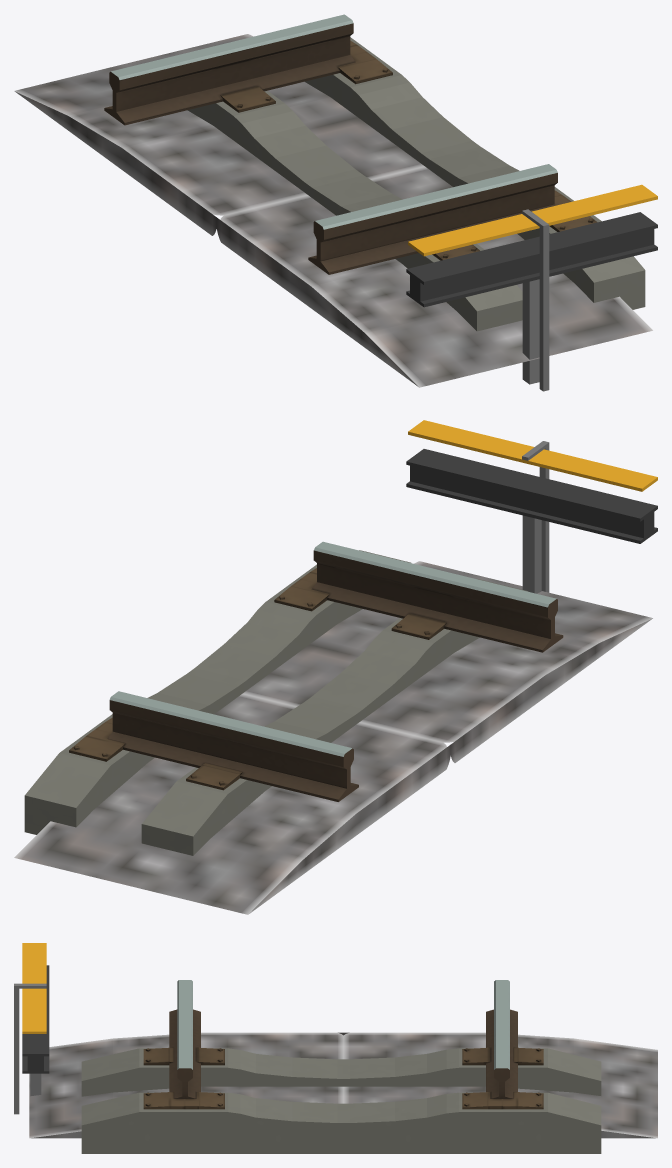
The model's file is spsf_tracks_concrete_ballast_3rdrail_left.obj.
3 views of the same model, one above another, from view 1: azimuth 30°, elevation 25°; view 2: azimuth 150°, elevation 25°; view 3: azimuth 270°, elevation 25° (orthographic). The views are drawn at different scales.
Parts seen in each view (by area): view 1: RAIL_BASE_Cube.001, RAIL_BASE.006_Cube_Cube.004, RAIL_BASE.004, RAIL_RIGHT_Cube.010, RAIL_LEFT_Cube.002, RAIL_BASE.005_Cube.003; view 2: RAIL_BASE_Cube.001, RAIL_BASE.006_Cube_Cube.004, RAIL_BASE.004, RAIL_RIGHT_Cube.010, RAIL_LEFT_Cube.002, RAIL_BASE.005_Cube.003; view 3: RAIL_BASE.006_Cube_Cube.004, RAIL_BASE_Cube.001, RAIL_BASE.005_Cube.003, RAIL_BASE.004, RAIL_RIGHT_Cube.010, RAIL_LEFT_Cube.002.
Boxes of the visible parts, left/top/right/bottom form: RAIL_BASE_Cube.001: left=14, top=34, right=652, bottom=387; RAIL_BASE.006_Cube_Cube.004: left=187, top=37, right=645, bottom=331; RAIL_BASE.004: left=406, top=184, right=657, bottom=391; RAIL_RIGHT_Cube.010: left=104, top=14, right=355, bottom=125; RAIL_LEFT_Cube.002: left=308, top=164, right=557, bottom=274; RAIL_BASE.005_Cube.003: left=220, top=40, right=597, bottom=260; RAIL_BASE_Cube.001: left=14, top=561, right=652, bottom=914; RAIL_BASE.006_Cube_Cube.004: left=24, top=550, right=527, bottom=855; RAIL_BASE.004: left=406, top=420, right=657, bottom=593; RAIL_RIGHT_Cube.010: left=107, top=691, right=358, bottom=801; RAIL_LEFT_Cube.002: left=311, top=541, right=563, bottom=652; RAIL_BASE.005_Cube.003: left=69, top=568, right=446, bottom=790; RAIL_BASE.006_Cube_Cube.004: left=81, top=1048, right=601, bottom=1153; RAIL_BASE_Cube.001: left=29, top=1032, right=657, bottom=1138; RAIL_BASE.005_Cube.003: left=143, top=1047, right=543, bottom=1109; RAIL_BASE.004: left=14, top=943, right=49, bottom=1114; RAIL_RIGHT_Cube.010: left=486, top=980, right=517, bottom=1098; RAIL_LEFT_Cube.002: left=169, top=980, right=200, bottom=1098.
Bounding box in the file's own units: 1.11 × 0.6752 × 3.07.
3 materials, 3 textured.
